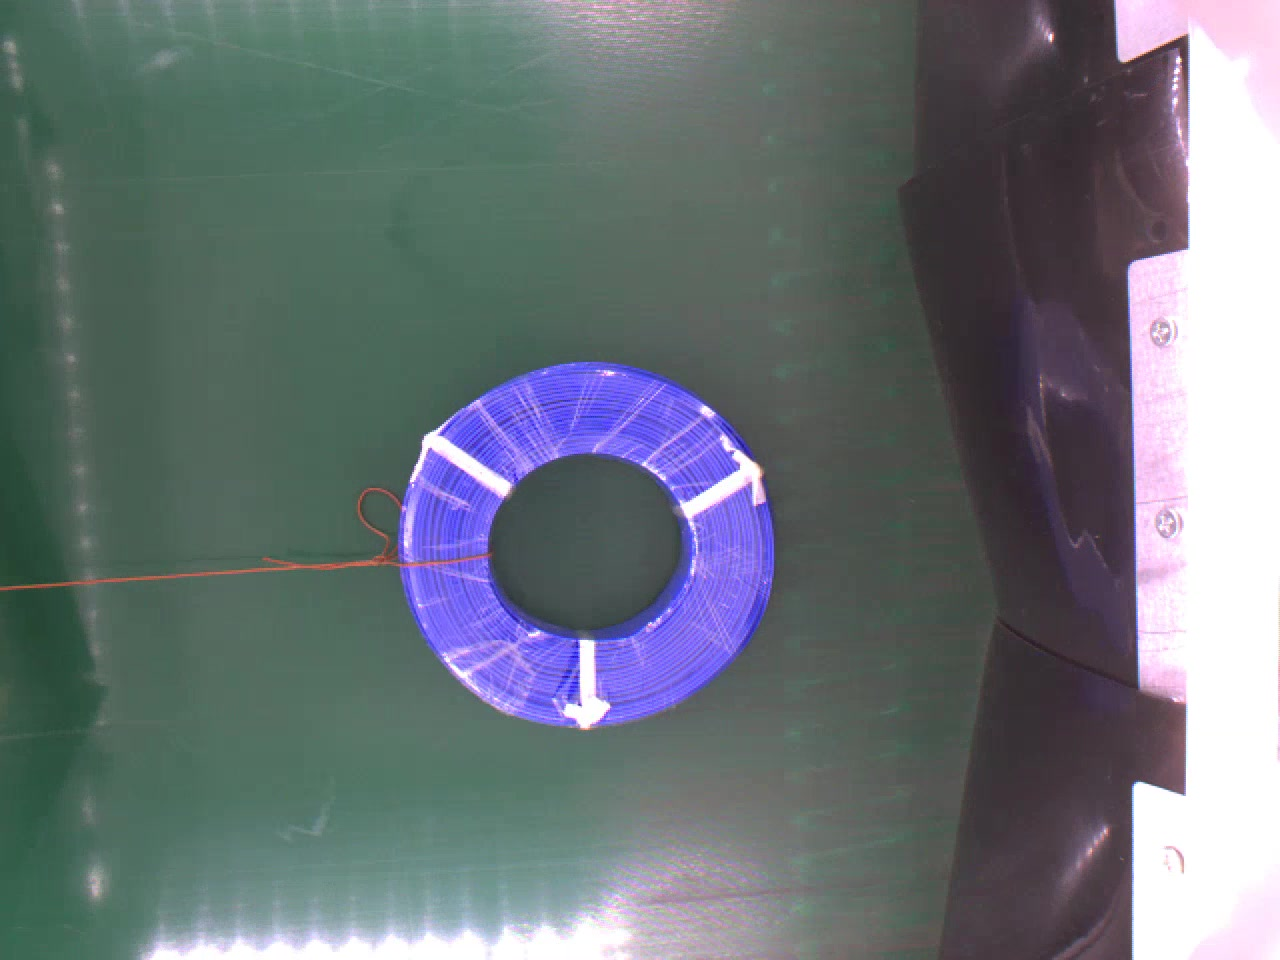blue: (393, 357, 777, 733)
